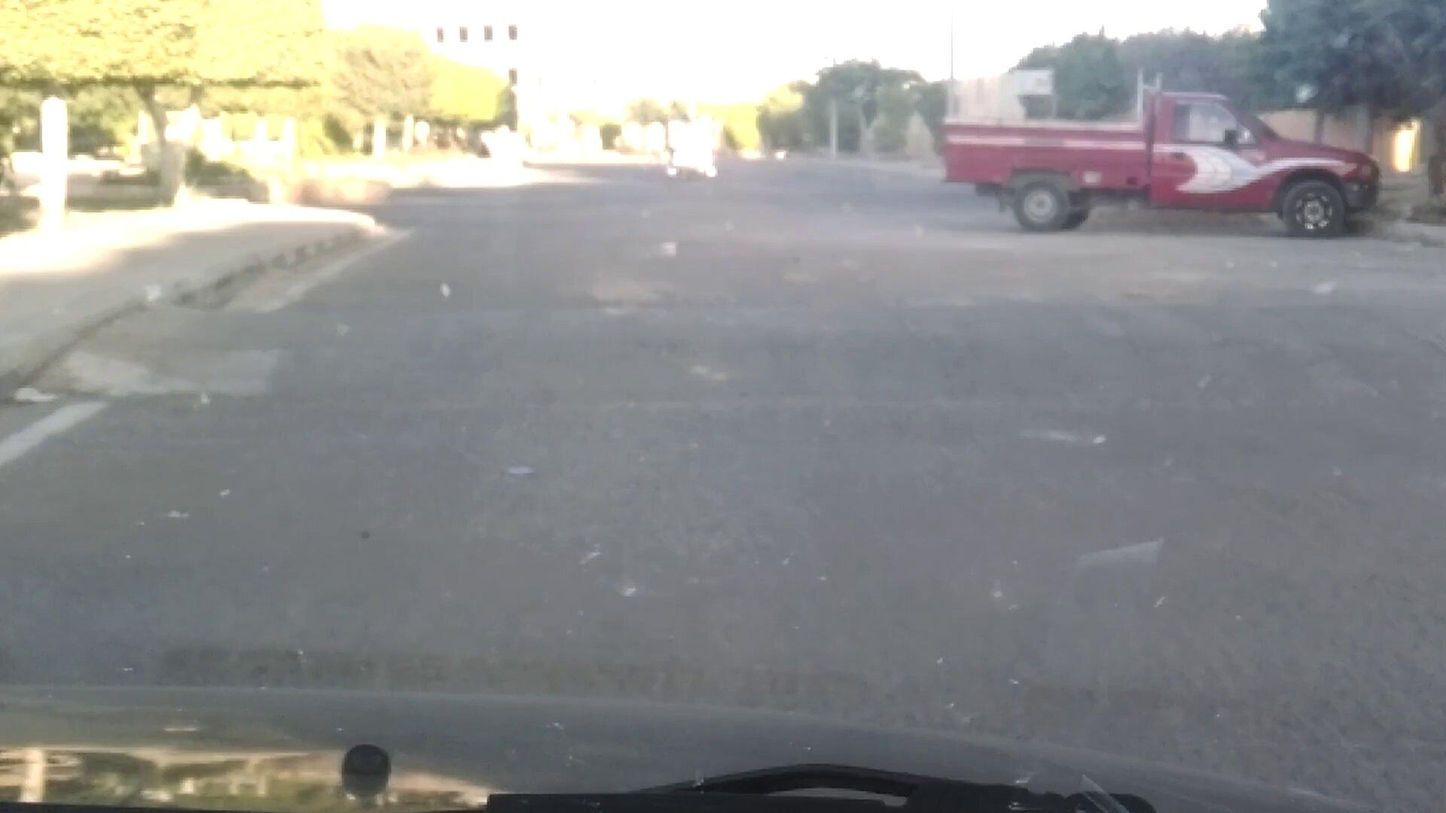Bump: (117, 301, 1446, 423)
